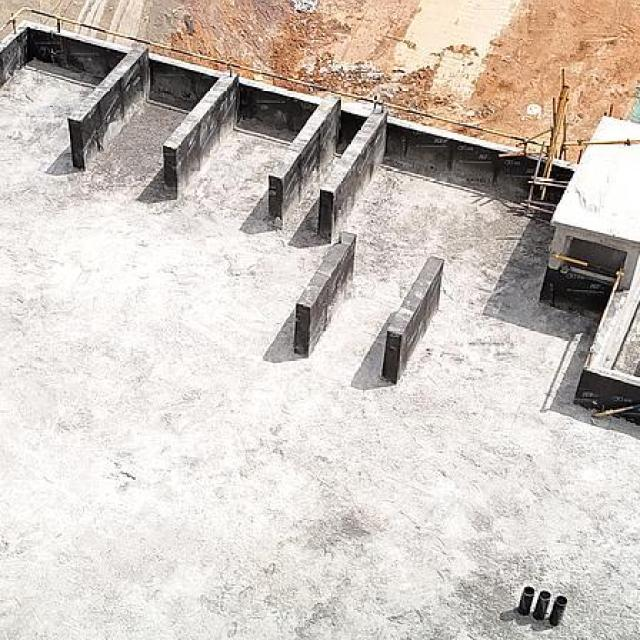edge_guardrail: (0, 4, 551, 152), (550, 253, 626, 368), (591, 403, 640, 420)
